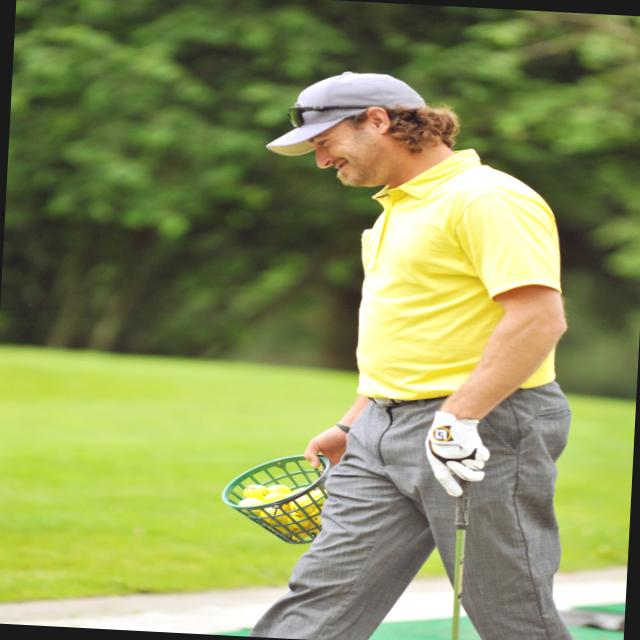Tennis Ball: (232, 480, 329, 540)
